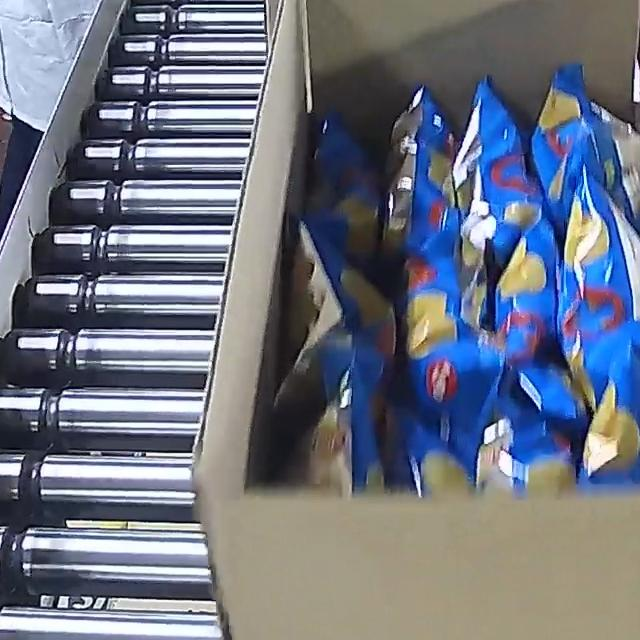paprika: (288, 65, 640, 498)
